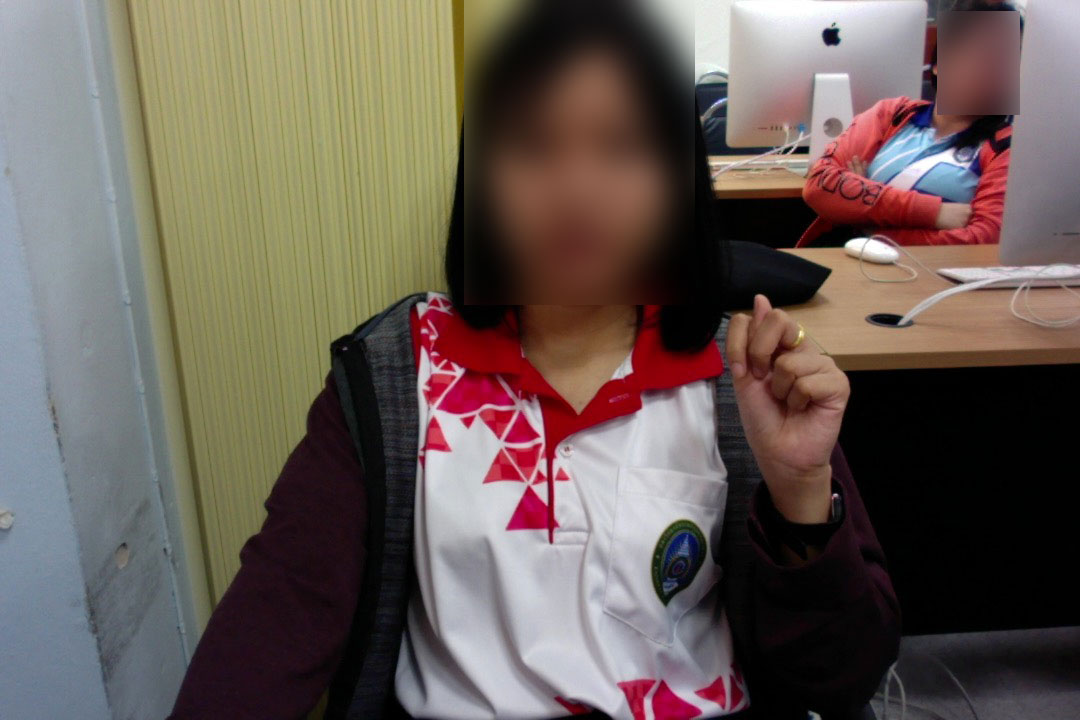tor: (724, 291, 853, 515)
